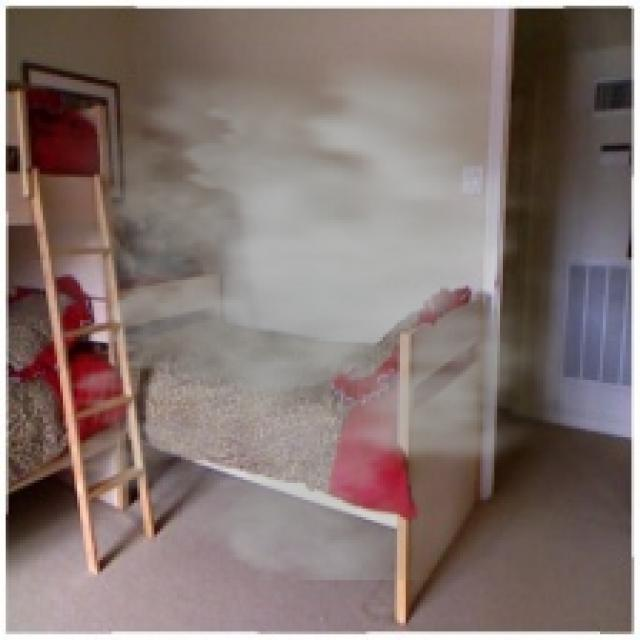smoke: (8, 26, 566, 580)
